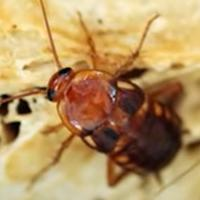cockroach: (42, 56, 184, 188)
